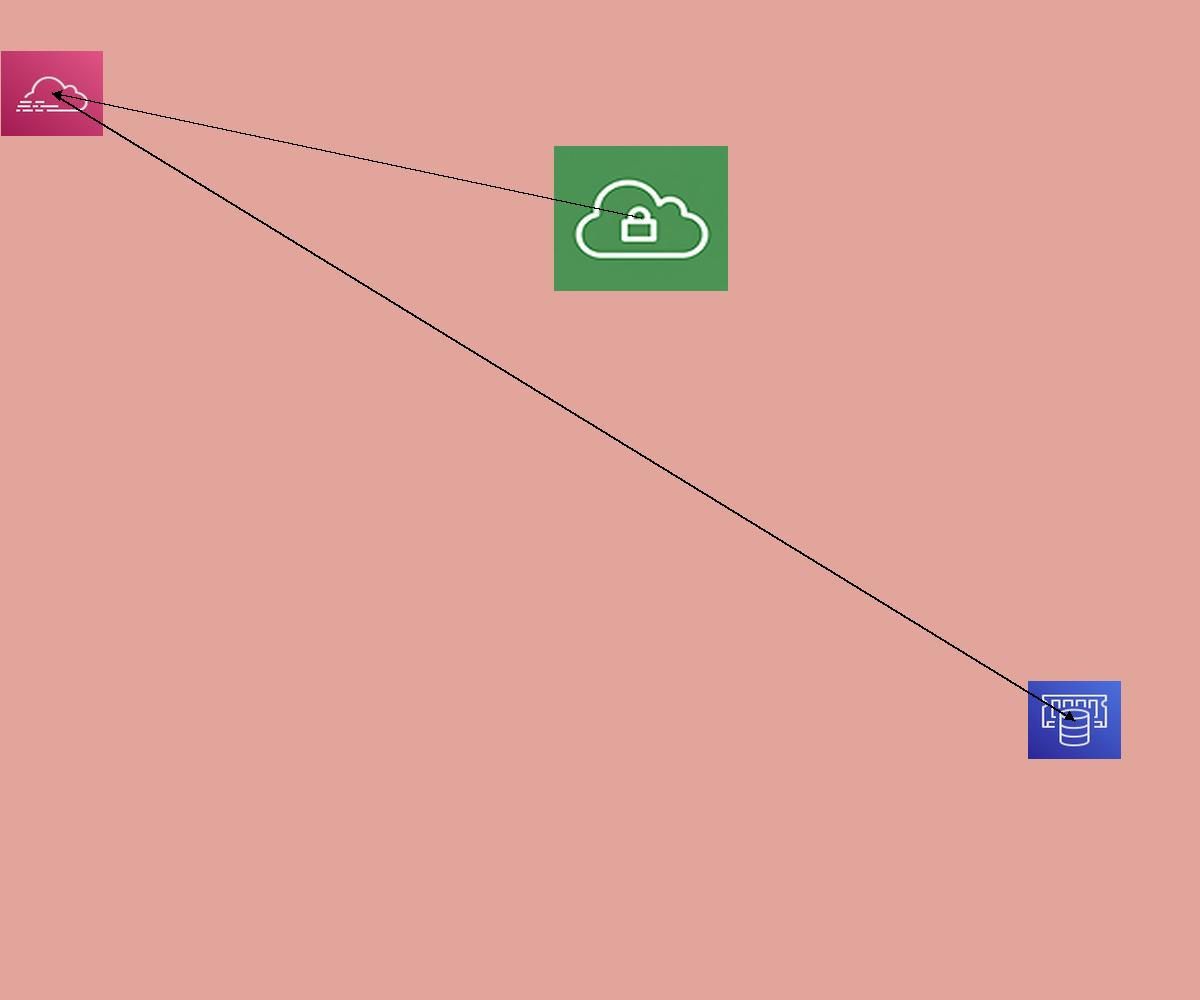AWS-CloudTrail: (1, 51, 103, 136)
AWS-ElastiCache: (1028, 681, 1121, 759)
AWS-Private_vpc: (554, 146, 728, 291)
